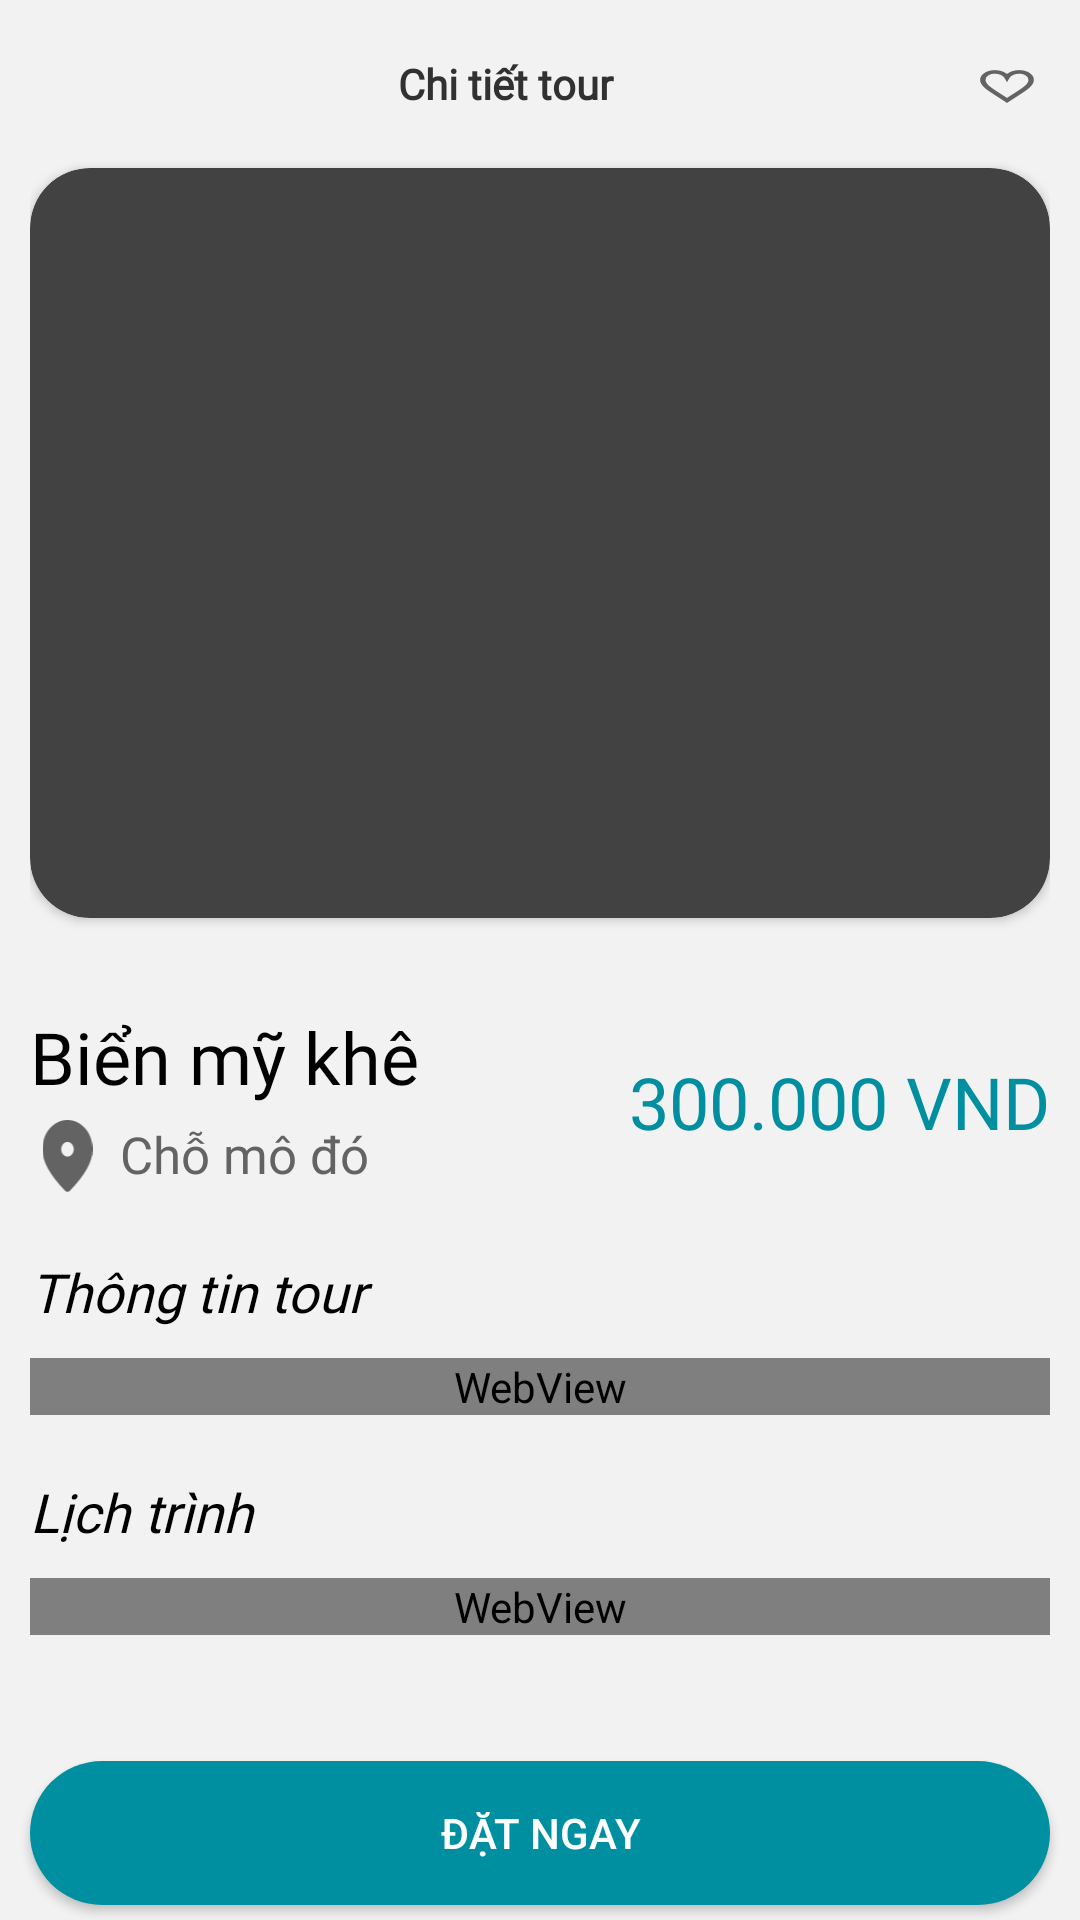

Icons on this 1080px x 1920px Android screen, each with the point to tap as point (x, y):
location: point (68, 1156)
